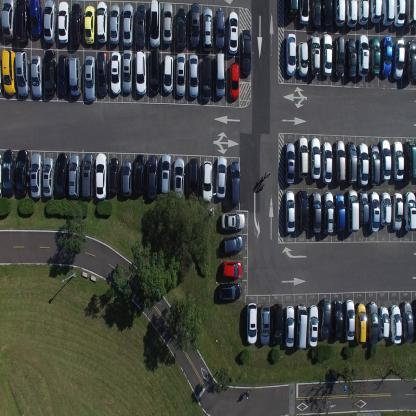car: (14, 50, 30, 98), (14, 0, 30, 44), (15, 149, 29, 197), (2, 48, 16, 96), (43, 49, 56, 97), (43, 0, 57, 44), (55, 151, 68, 198), (200, 55, 213, 101), (68, 153, 81, 199), (346, 188, 359, 233), (295, 304, 308, 349), (96, 51, 109, 96), (214, 51, 226, 99), (82, 152, 94, 200), (84, 54, 96, 102), (68, 56, 82, 97), (319, 297, 332, 341), (70, 2, 83, 46), (135, 48, 147, 95), (95, 152, 107, 199), (30, 152, 42, 199), (357, 34, 370, 77), (2, 148, 14, 194), (333, 36, 346, 78), (366, 302, 379, 344), (57, 1, 70, 43), (1, 0, 14, 42), (285, 32, 297, 77), (309, 136, 321, 181), (322, 190, 334, 235), (30, 54, 42, 99), (391, 140, 404, 181), (403, 191, 416, 232), (159, 153, 172, 194), (29, 0, 43, 38), (201, 160, 213, 204), (149, 0, 160, 48), (334, 140, 346, 184), (357, 142, 369, 186), (271, 302, 283, 346), (307, 304, 319, 348), (401, 300, 413, 344), (96, 0, 108, 44), (110, 51, 122, 95), (173, 156, 185, 199), (380, 139, 392, 182), (404, 139, 416, 182), (310, 190, 322, 233), (284, 190, 296, 233), (122, 3, 134, 46), (189, 2, 200, 48), (149, 48, 160, 94), (241, 28, 252, 74), (122, 48, 133, 94), (222, 233, 244, 256), (309, 34, 321, 76), (380, 36, 392, 78), (393, 38, 405, 80), (297, 136, 309, 178), (368, 191, 380, 233), (297, 189, 309, 231), (42, 156, 54, 198), (188, 156, 199, 201), (175, 52, 186, 97), (284, 140, 295, 185), (216, 155, 227, 199), (202, 7, 213, 51), (188, 53, 199, 97), (321, 141, 332, 185), (147, 154, 158, 198), (246, 301, 257, 345), (218, 282, 242, 302), (220, 211, 245, 230), (175, 7, 186, 50), (162, 2, 173, 45), (369, 143, 380, 186), (228, 61, 240, 100), (391, 192, 403, 231), (334, 193, 346, 232), (346, 142, 357, 184), (332, 299, 343, 341), (344, 299, 355, 341), (390, 305, 402, 343), (134, 153, 145, 194), (109, 4, 120, 45), (57, 54, 68, 95), (230, 160, 240, 205), (136, 3, 146, 48), (108, 157, 120, 194), (228, 11, 238, 55), (322, 33, 332, 77), (259, 304, 270, 344), (284, 304, 294, 348), (84, 5, 95, 45), (356, 302, 366, 345), (162, 54, 173, 93), (121, 160, 132, 198), (219, 261, 242, 279), (215, 8, 225, 49), (346, 38, 356, 78), (370, 36, 380, 76), (406, 39, 415, 83), (378, 306, 390, 339), (380, 0, 395, 26), (380, 191, 391, 226), (333, 0, 346, 29), (358, 191, 369, 225), (298, 40, 308, 77), (346, 0, 358, 28), (310, 0, 322, 27), (393, 0, 405, 27), (322, 0, 333, 28), (298, 0, 310, 25), (369, 0, 382, 23), (358, 0, 369, 27), (406, 0, 415, 31), (286, 0, 299, 19), (412, 302, 416, 338), (0, 152, 2, 196)
